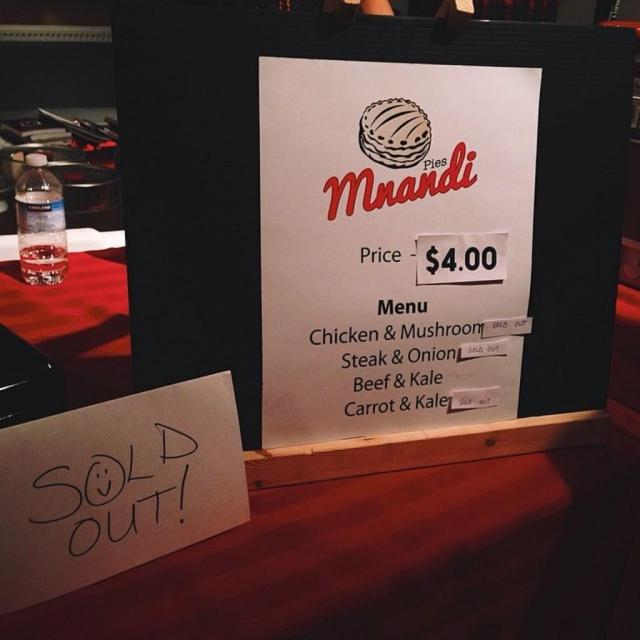table: (60, 396, 640, 640)
